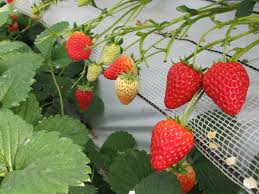ripe: (146, 115, 197, 171), (205, 56, 249, 119), (163, 60, 208, 110), (103, 50, 134, 81), (63, 31, 94, 61), (72, 85, 96, 112)
unripe: (167, 161, 199, 192), (115, 71, 141, 104), (96, 39, 121, 67), (85, 62, 103, 83)
